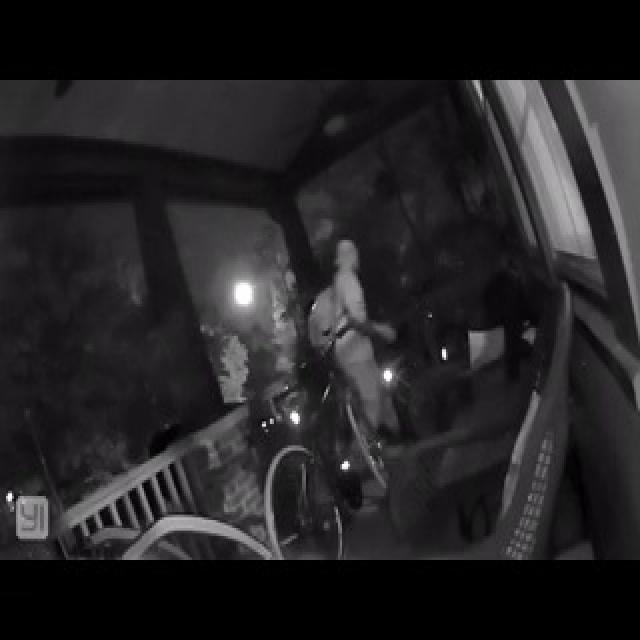thief: (316, 237, 386, 405)
